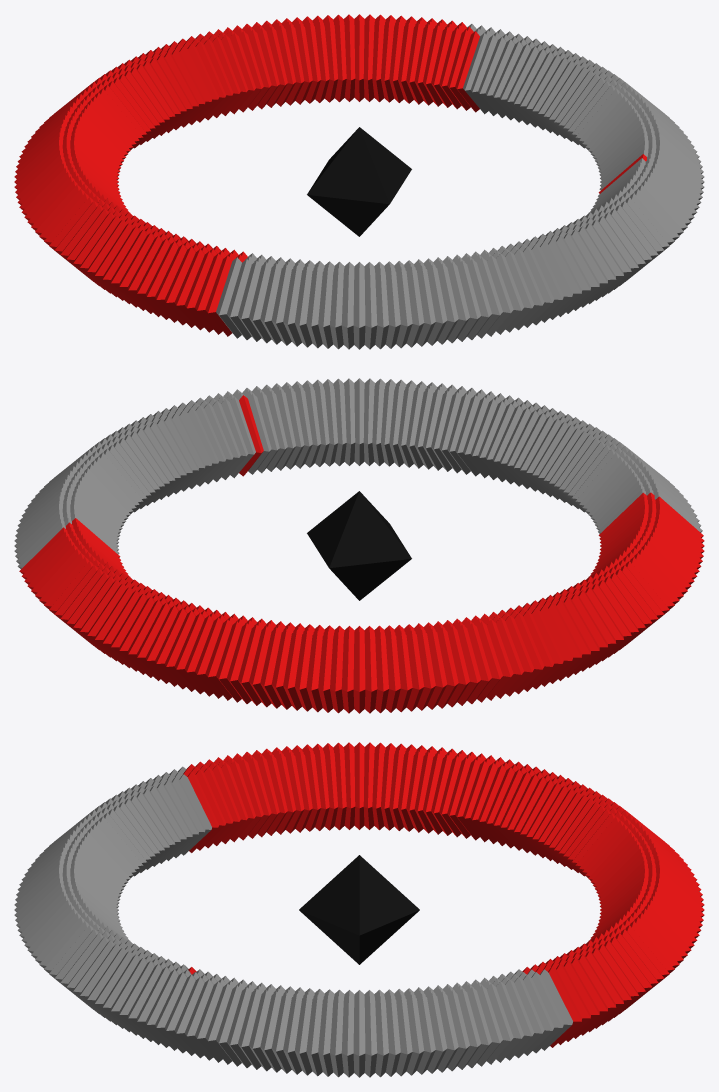
Rendered from local_feasible_centers.obj.
3 views of the same model, one above another, from view 1: azimuth 30°, elevation 25°; view 2: azimuth 150°, elevation 25°; view 3: azimuth 270°, elevation 25° (orthographic).
Visible parts, largest first — view 1: rejected_candidates, feasible_candidates, target_point_000129; view 2: feasible_candidates, rejected_candidates, target_point_000129; view 3: rejected_candidates, feasible_candidates, target_point_000129.
Boxes of the visible parts, x1,y1,x2,y2 form: rejected_candidates: (216,24,704,349); feasible_candidates: (14,14,646,336); target_point_000129: (307,127,411,236); feasible_candidates: (19,395,704,713); rejected_candidates: (14,378,702,568); target_point_000129: (307,491,411,600); rejected_candidates: (14,766,572,1077); feasible_candidates: (183,742,704,1047); target_point_000129: (299,855,419,964).
Size of the model in its own units: 0.023 by 0.00405 by 0.023.
